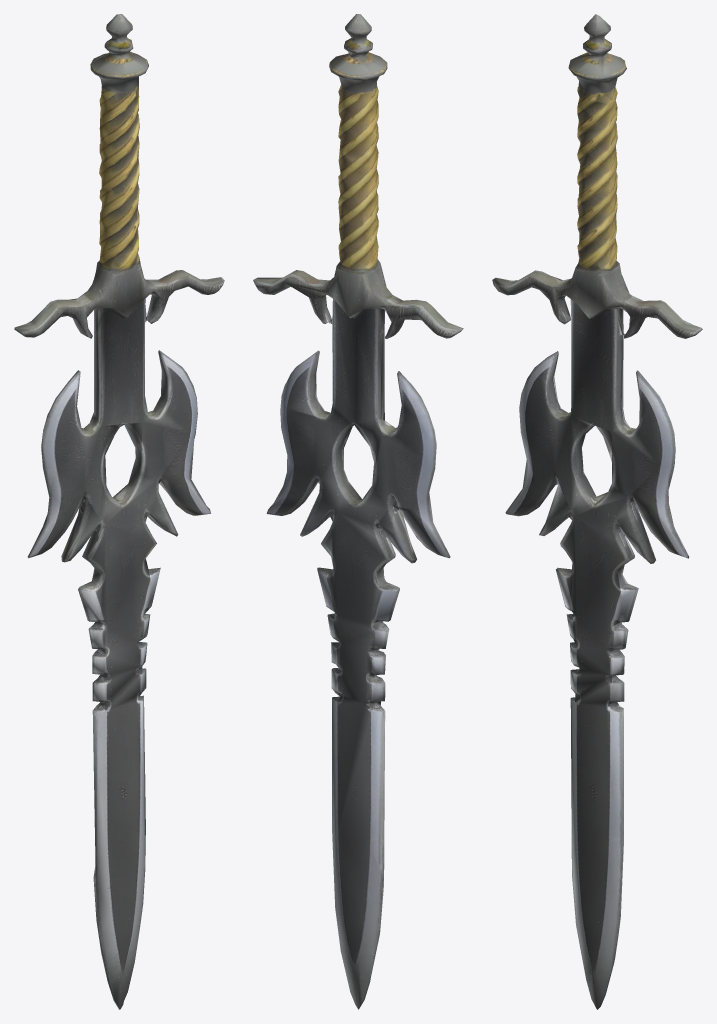
Rendered from dagger-flamewing.glb.
The picture shows the model from 3 angles, left to right: view 1: azimuth 30°, elevation 25°; view 2: azimuth 150°, elevation 25°; view 3: azimuth 330°, elevation 25°; orthographic projection.
Parts seen in each view (by area): view 1: Mesh1.0; view 2: Mesh1.0; view 3: Mesh1.0.
Boxes of the visible parts, x1,y1,x2,y2 form: Mesh1.0: (14,14,224,1009); Mesh1.0: (253,14,463,1009); Mesh1.0: (492,14,702,1009).
Bounding box in the file's own units: 0.4147 × 1.9 × 0.1004.
1 material, 1 textured.
